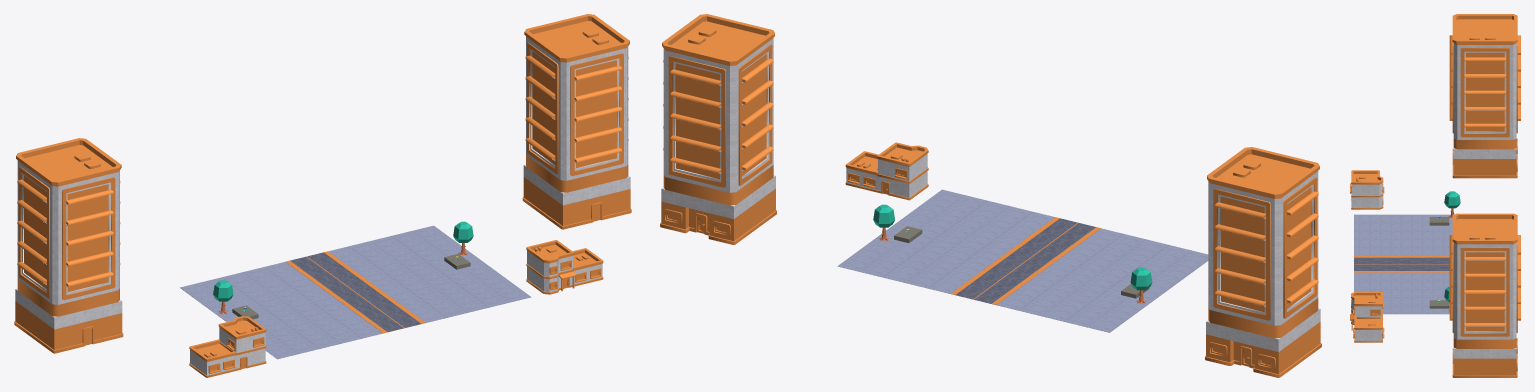
File: Street-0.obj
The picture shows the model from 3 angles, left to right: view 1: azimuth 30°, elevation 25°; view 2: azimuth 150°, elevation 25°; view 3: azimuth 270°, elevation 25°; orthographic projection. The views are drawn at different scales.
Parts seen in each view (by area): view 1: surface6, surface2, surface5, surface14, surface13, surface15, surface10, surface4; view 2: surface6, surface2, surface5, surface14, surface13, surface15, surface10; view 3: surface6, surface5, surface2, surface14, surface13, surface15, surface4, surface10.
Part boxes in pixels (left/top/right/bottom): surface6: left=14, top=14, right=631, bottom=377; surface2: left=180, top=225, right=531, bottom=359; surface5: left=15, top=37, right=630, bottom=375; surface14: left=294, top=253, right=416, bottom=330; surface13: left=286, top=251, right=425, bottom=333; surface15: left=290, top=252, right=420, bottom=331; surface10: left=213, top=221, right=473, bottom=301; surface4: left=232, top=253, right=470, bottom=319; surface6: left=660, top=14, right=1321, bottom=377; surface2: left=837, top=189, right=1208, bottom=332; surface5: left=661, top=38, right=1320, bottom=351; surface14: left=960, top=219, right=1091, bottom=302; surface13: left=951, top=217, right=1100, bottom=304; surface15: left=956, top=218, right=1095, bottom=303; surface10: left=873, top=204, right=1152, bottom=290; surface6: left=1350, top=14, right=1520, bottom=377; surface5: left=1351, top=43, right=1516, bottom=358; surface2: left=1354, top=214, right=1452, bottom=314; surface14: left=1354, top=259, right=1449, bottom=269; surface13: left=1354, top=256, right=1449, bottom=272; surface15: left=1354, top=257, right=1449, bottom=270; surface4: left=1429, top=217, right=1449, bottom=308; surface10: left=1444, top=191, right=1460, bottom=302.
Bounding box in the file's own units: 82.88 × 23.05 × 26.06.
